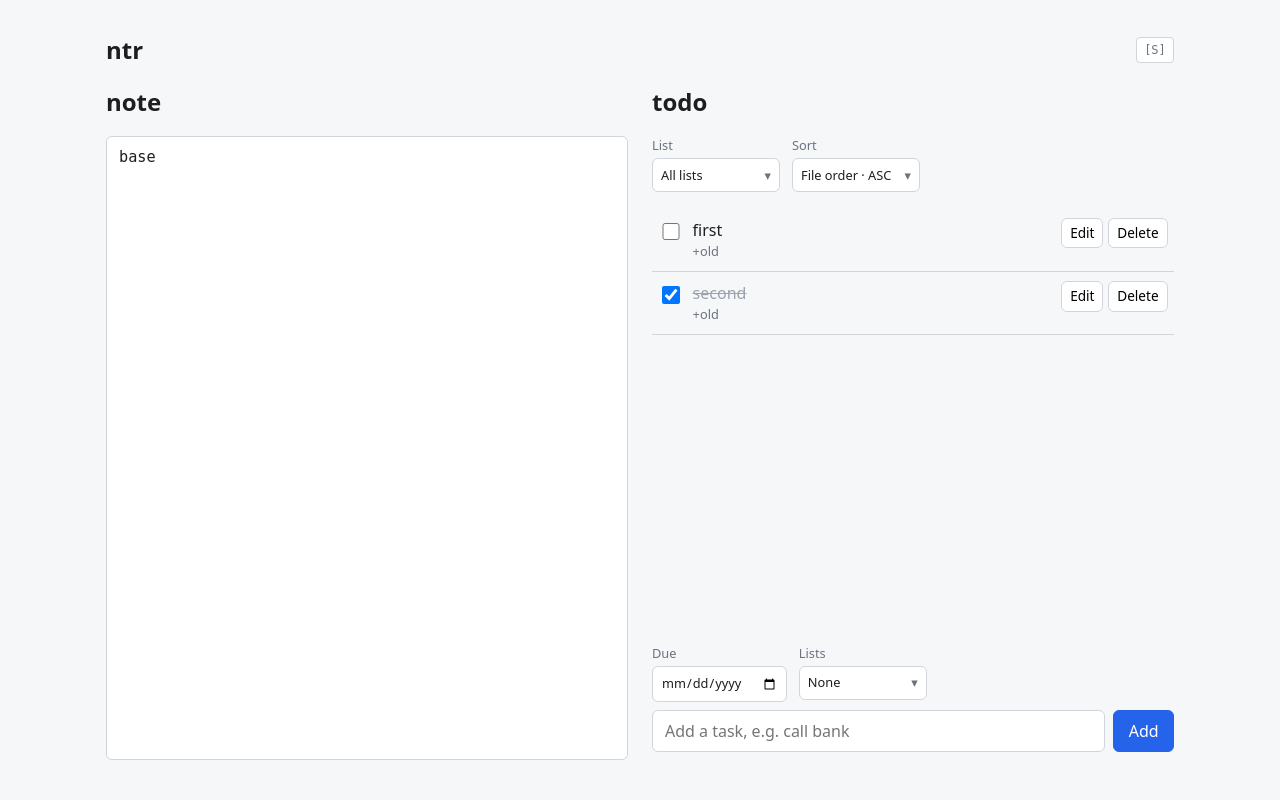
list rename through real panes and transport › keeps pending progress and stops further writes across a transport replacement
Click the button with aria-label "List filter" at (716, 175), box [652,158,780,192]
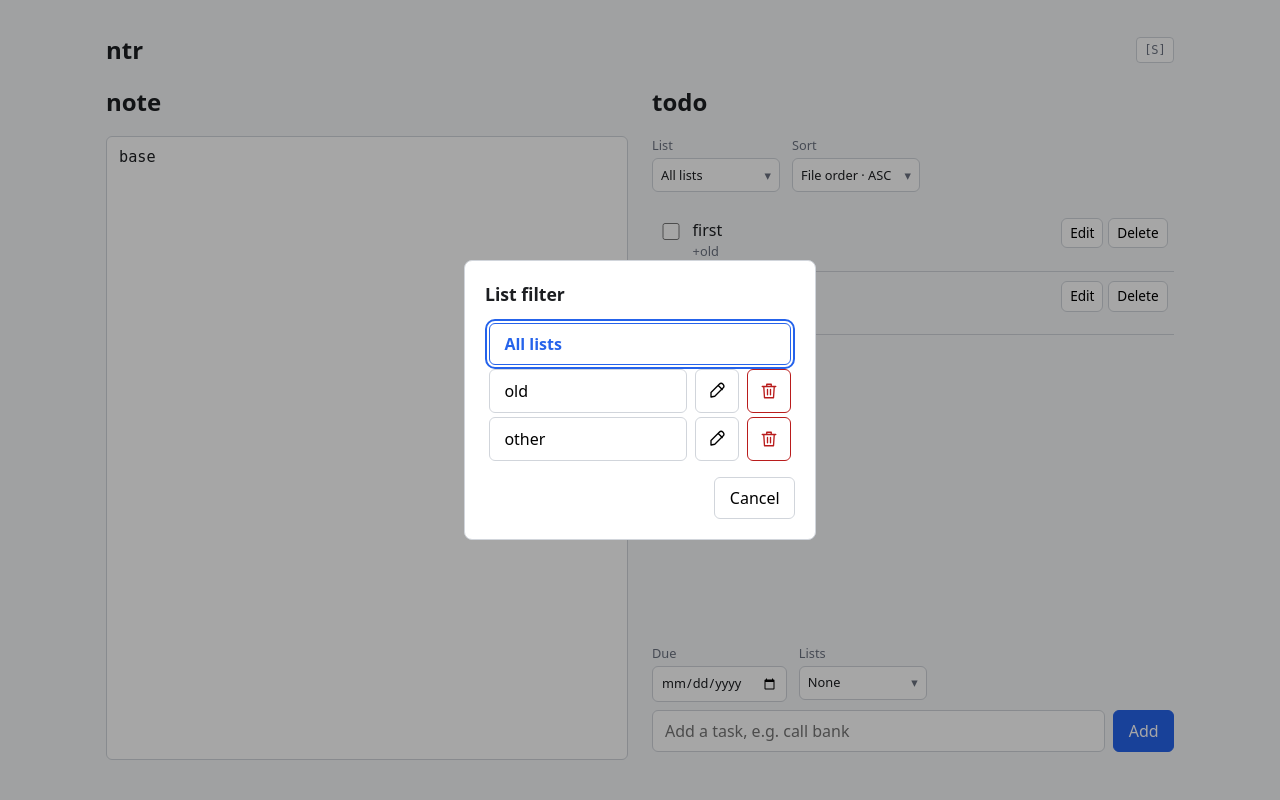
Click the button named "Rename old" at (717, 391), box [695,369,739,413]
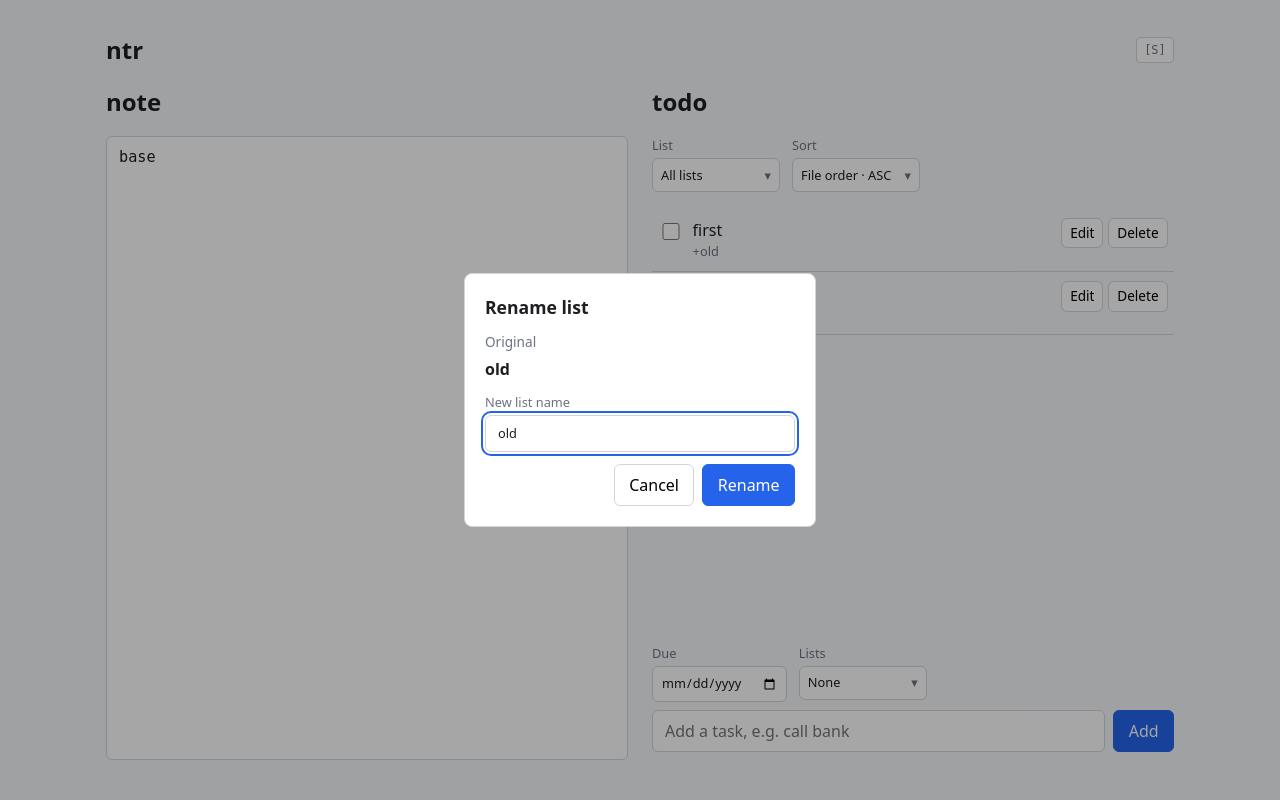
Replace the text in the field labelled "New list name" with "new" at (640, 434), box [485,415,795,452]
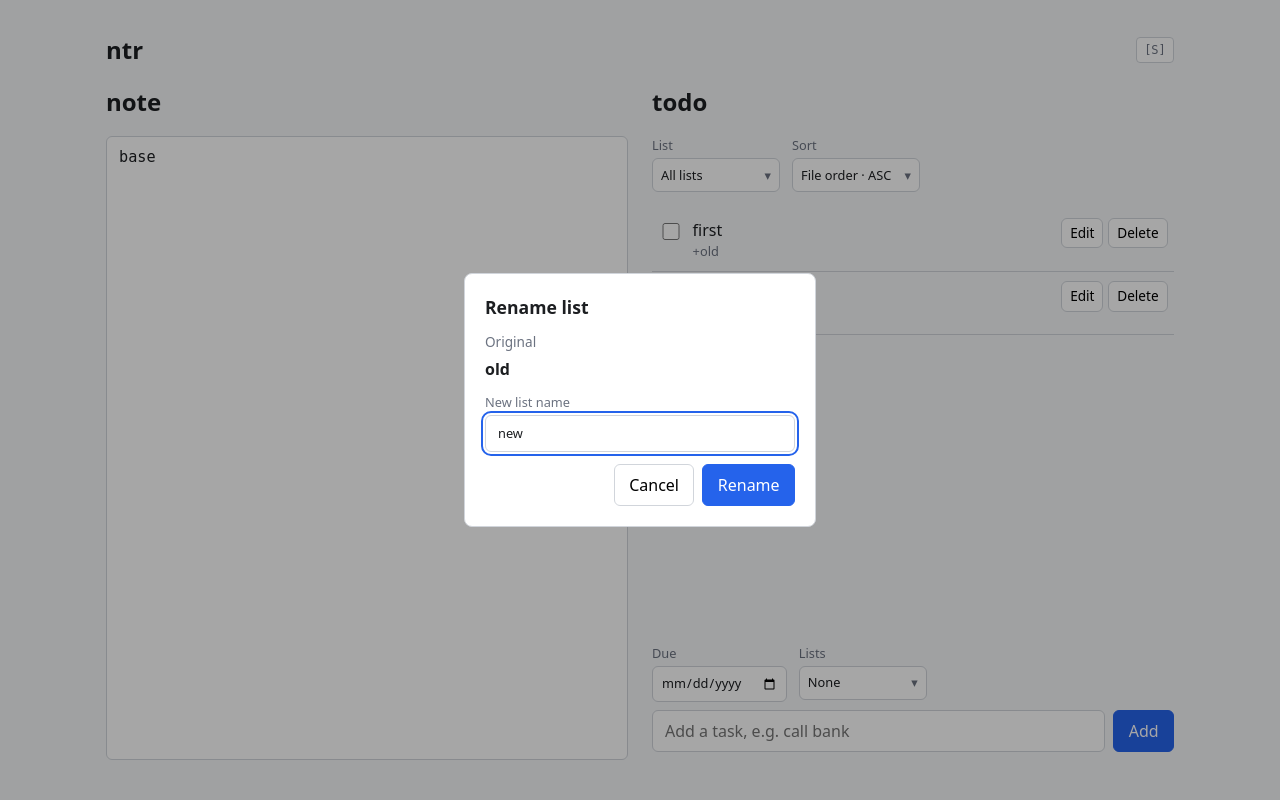
Submit the form "Rename list Original old New list name Cancel Rename", box [485,294,795,506]
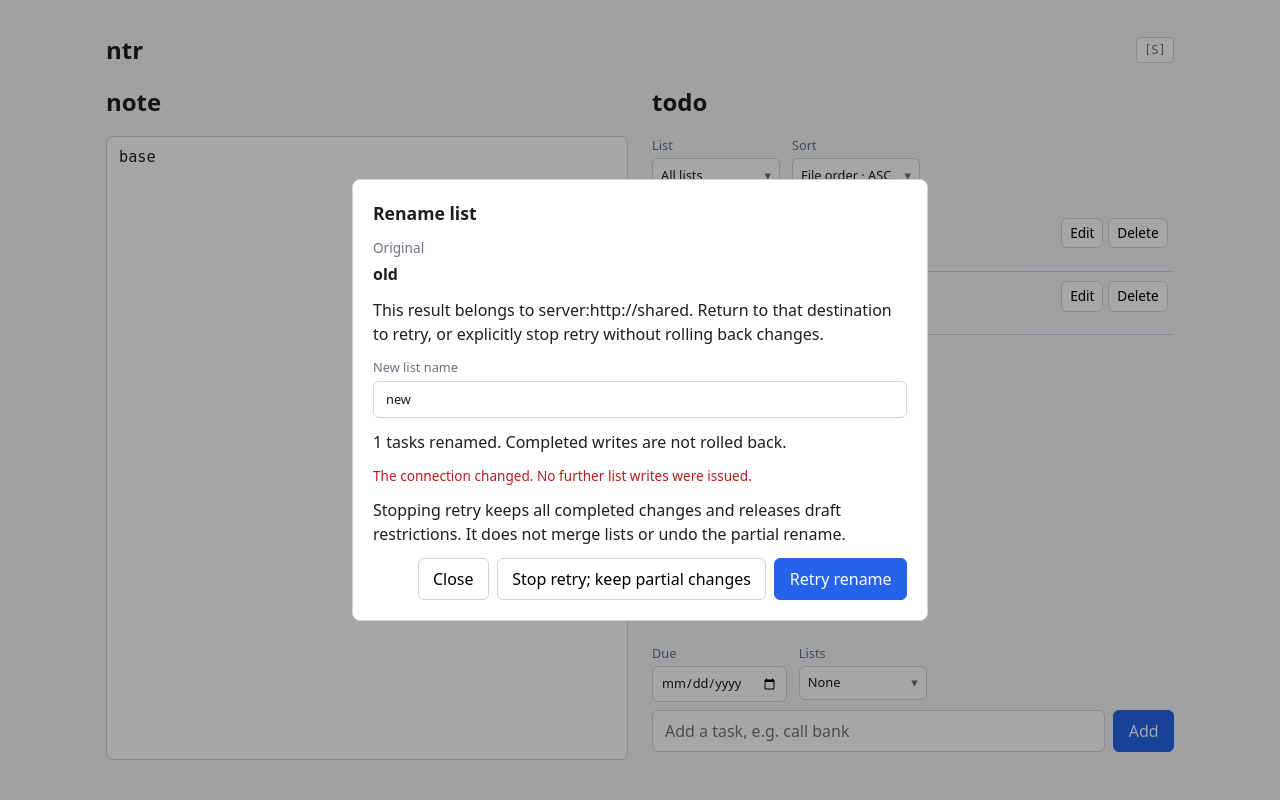
Check: the dialog with id "rename-list-dialog" shows "connection changed", box [373,466,752,485]
